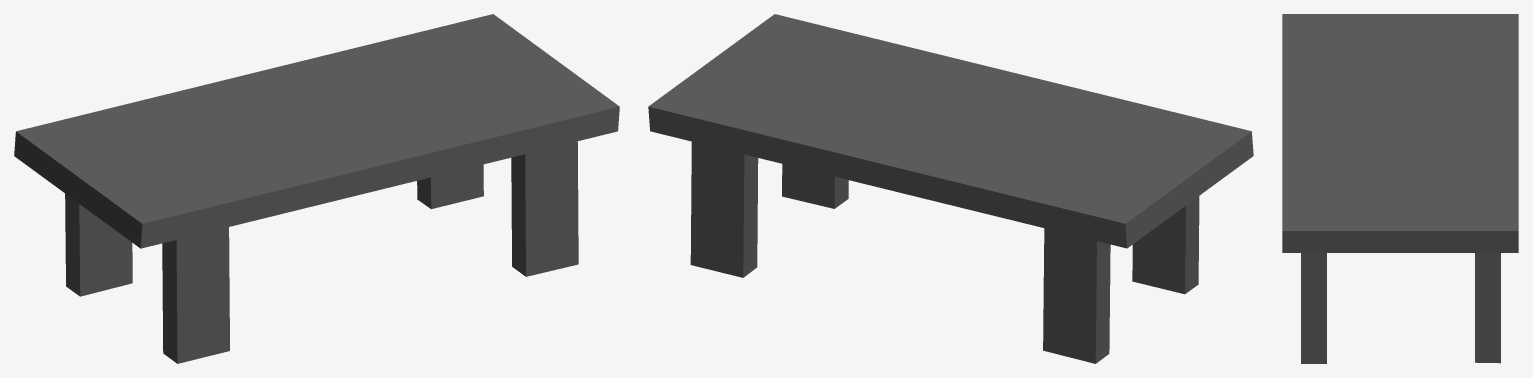
Rendered from Table_4.fbx.
3 views of the same model, side by side, from view 1: azimuth 30°, elevation 25°; view 2: azimuth 150°, elevation 25°; view 3: azimuth 270°, elevation 25° (orthographic). The views are drawn at different scales.
Parts seen in each view (by area): view 1: Table_4; view 2: Table_4; view 3: Table_4.
Boxes of the visible parts, <box> form: Table_4: <box>14,14,619,363</box>; Table_4: <box>648,14,1253,363</box>; Table_4: <box>1282,14,1518,363</box>.
Size of the model in its own units: 218 by 99.76 by 68.86.
